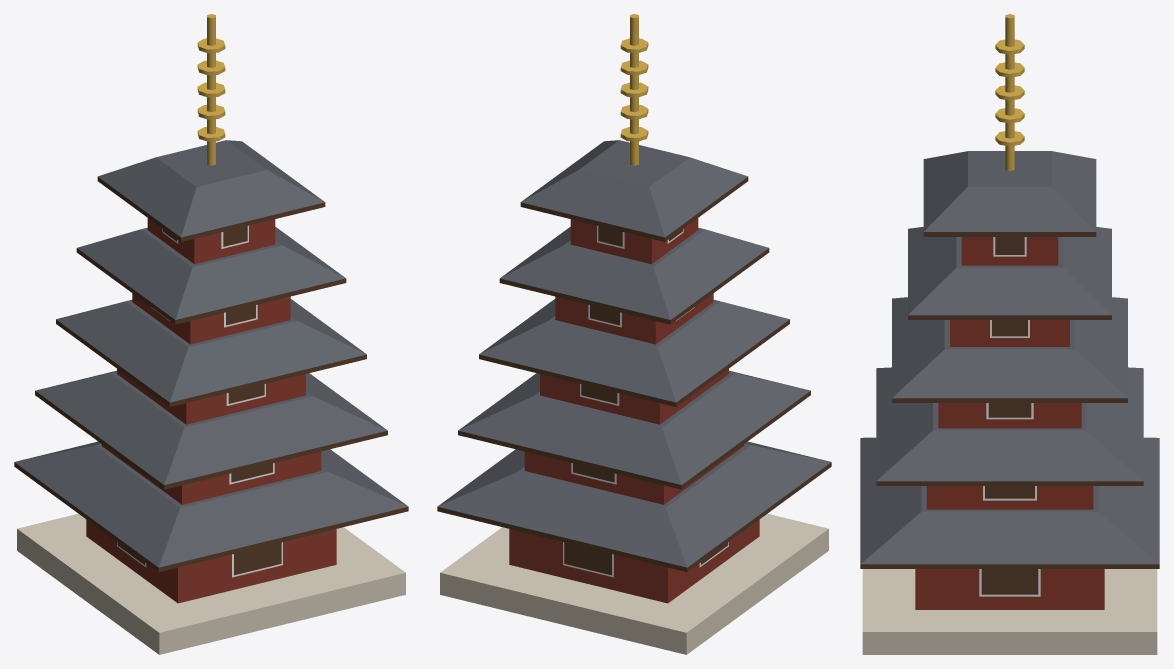
The model's file is pagode.glb.
The picture shows the model from 3 angles, left to right: view 1: azimuth 30°, elevation 25°; view 2: azimuth 150°, elevation 25°; view 3: azimuth 270°, elevation 25°; orthographic projection. The views are drawn at different scales.
Parts seen in each view (by area): view 1: pagode; view 2: pagode; view 3: pagode.
Boxes of the visible parts, box(x1,y1,x2,y2) form: pagode: box(14, 14, 408, 654); pagode: box(437, 14, 831, 654); pagode: box(860, 14, 1159, 654).
Bounding box in the file's own units: 14.2 × 30.2 × 14.2.
Materials: 1 (1 with a texture image).
